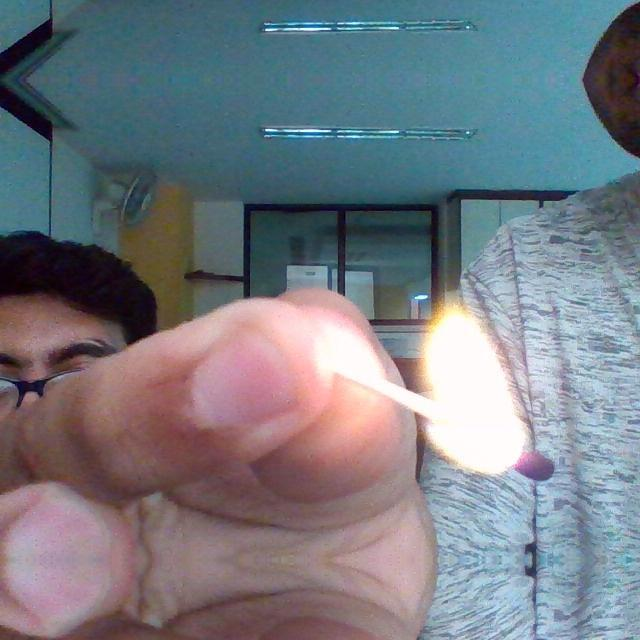smoke: (414, 301, 540, 485)
